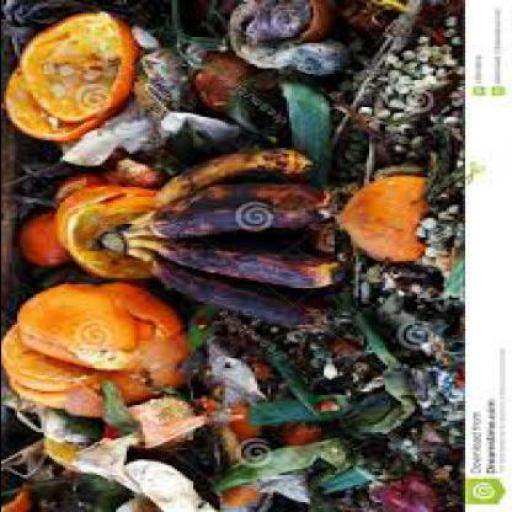biodegradable: (1, 1, 459, 511), (341, 273, 461, 473), (328, 2, 461, 178), (94, 247, 322, 333), (59, 284, 190, 412), (122, 150, 314, 234), (13, 14, 131, 124), (105, 236, 336, 292), (106, 187, 326, 239), (325, 266, 461, 346), (10, 286, 136, 372), (48, 189, 151, 282), (0, 66, 106, 146), (330, 177, 426, 265), (410, 128, 458, 304), (211, 437, 347, 493), (224, 2, 334, 71), (1, 2, 137, 50), (120, 446, 222, 510), (1, 326, 86, 398), (278, 72, 328, 178), (181, 44, 253, 114), (348, 455, 436, 511), (349, 311, 394, 415), (26, 462, 120, 510), (146, 107, 240, 151), (221, 68, 275, 144), (328, 393, 408, 444), (73, 428, 144, 485), (126, 397, 206, 446), (258, 341, 304, 425), (130, 45, 176, 125), (168, 2, 218, 72), (243, 395, 344, 428), (10, 216, 70, 270), (314, 454, 378, 500), (53, 119, 109, 169), (336, 2, 400, 41), (45, 175, 106, 210), (8, 379, 67, 411), (38, 413, 88, 450), (290, 45, 344, 79), (83, 386, 120, 434), (104, 117, 150, 154), (374, 298, 408, 347), (182, 2, 224, 39), (14, 165, 48, 210), (42, 440, 72, 470), (1, 485, 27, 511), (130, 25, 152, 55)
